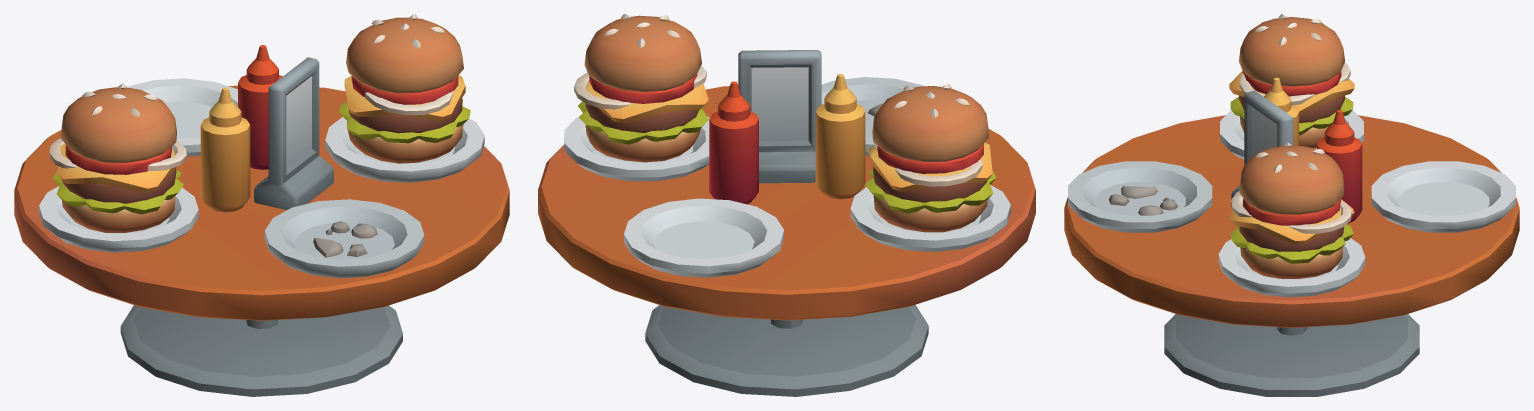
The model's file is kay-mesa-redonda.gltf.
3 views of the same model, side by side, from view 1: azimuth 30°, elevation 25°; view 2: azimuth 150°, elevation 25°; view 3: azimuth 270°, elevation 25° (orthographic). The views are drawn at different scales.
Visible parts, largest first — view 1: table_round_A_decorated; view 2: table_round_A_decorated; view 3: table_round_A_decorated.
Part boxes in pixels (x1,y1,x2,y2): table_round_A_decorated: (14,14,509,396); table_round_A_decorated: (538,14,1035,396); table_round_A_decorated: (1064,14,1519,396).
Bounding box in the file's own units: 1.95 × 1.21 × 1.95.
Materials: 1 (1 with a texture image).
